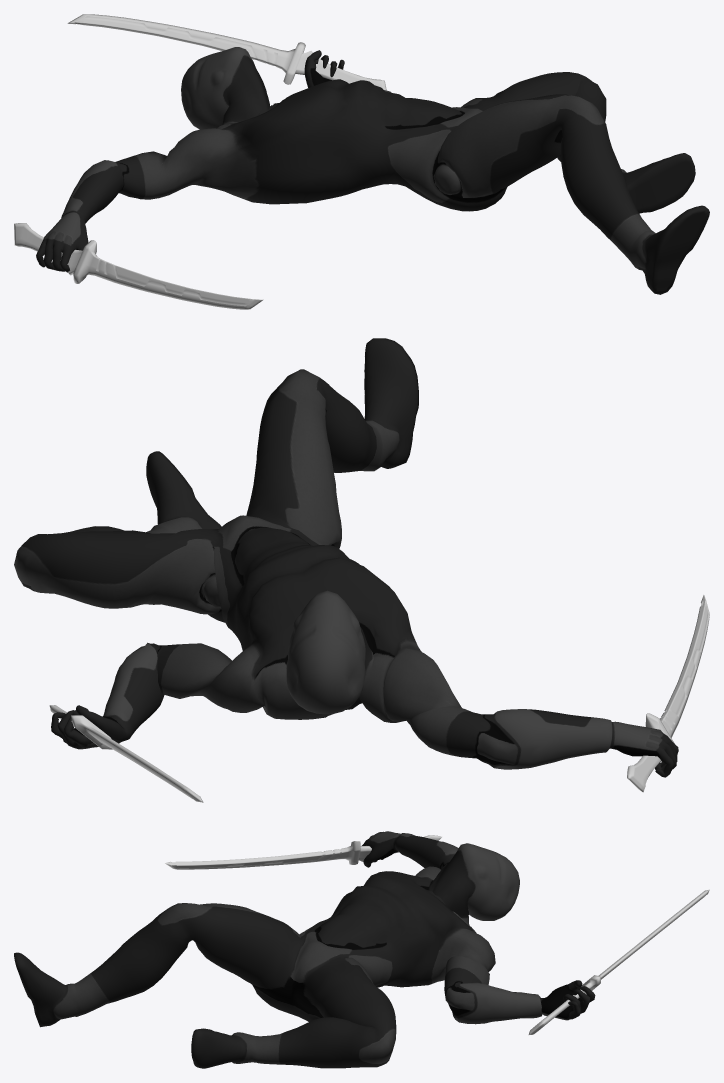
3 views of the same model, one above another, from view 1: azimuth 30°, elevation 25°; view 2: azimuth 150°, elevation 25°; view 3: azimuth 270°, elevation 25° (orthographic). The views are drawn at different scales.
Visible parts, largest first — view 1: Cyborg_Ninja_Killer, Sword_l, Sword_l001; view 2: Cyborg_Ninja_Killer, Sword_l001, Sword_l; view 3: Cyborg_Ninja_Killer, Sword_l001, Sword_l.
Part boxes in pixels (x1=…): Cyborg_Ninja_Killer: x1=36, y1=47, x2=709, y2=294; Sword_l: x1=67, y1=14, x2=386, y2=90; Sword_l001: x1=14, y1=223, x2=263, y2=309; Cyborg_Ninja_Killer: x1=14, y1=338, x2=678, y2=777; Sword_l001: x1=627, y1=595, x2=709, y2=792; Sword_l: x1=49, y1=705, x2=203, y2=802; Cyborg_Ninja_Killer: x1=14, y1=831, x2=595, y2=1068; Sword_l001: x1=165, y1=835, x2=441, y2=869; Sword_l: x1=528, y1=889, x2=709, y2=1035.
Bounding box in the file's own units: 173 × 46.19 × 211.
